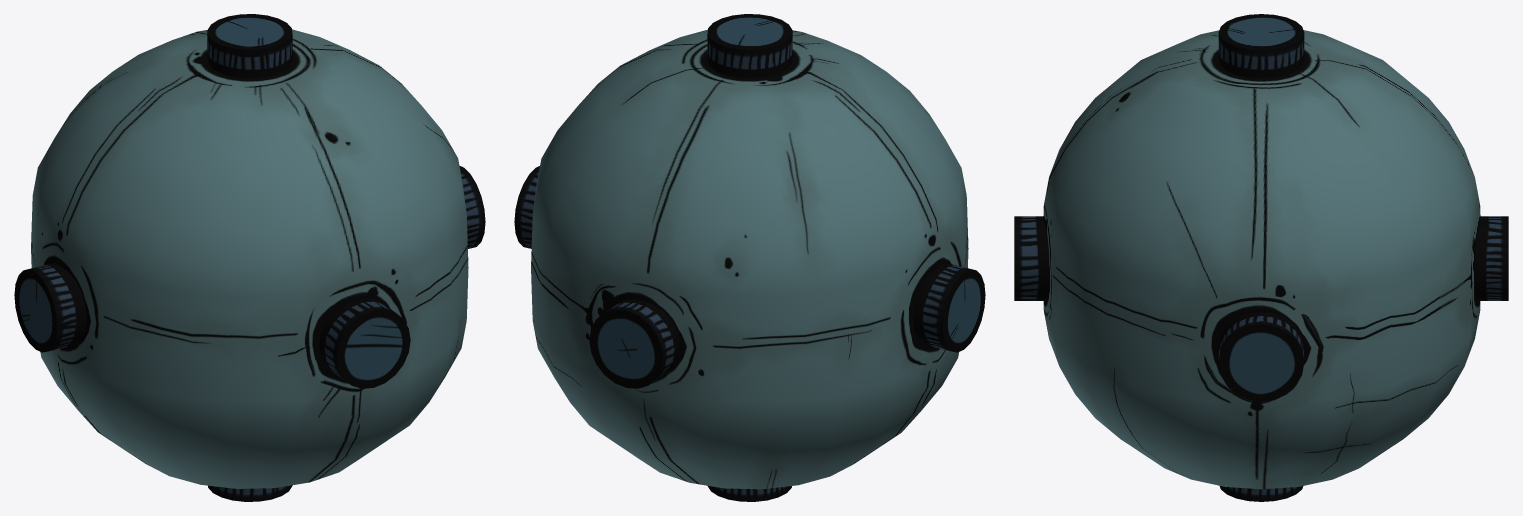
The model's file is mshAMOPipe.fbx.
3 renders of one model, left to right at view 1: azimuth 30°, elevation 25°; view 2: azimuth 150°, elevation 25°; view 3: azimuth 270°, elevation 25°, orthographic.
Parts seen in each view (by area): view 1: pipe_geo1; view 2: pipe_geo1; view 3: pipe_geo1.
Boxes of the visible parts, x1,y1,x2,y2 form: pipe_geo1: (14,14,485,501); pipe_geo1: (514,14,985,501); pipe_geo1: (1014,14,1508,501).
Size of the model in its own units: 7.1 by 7.16 by 7.1.
1 material, 1 textured.
